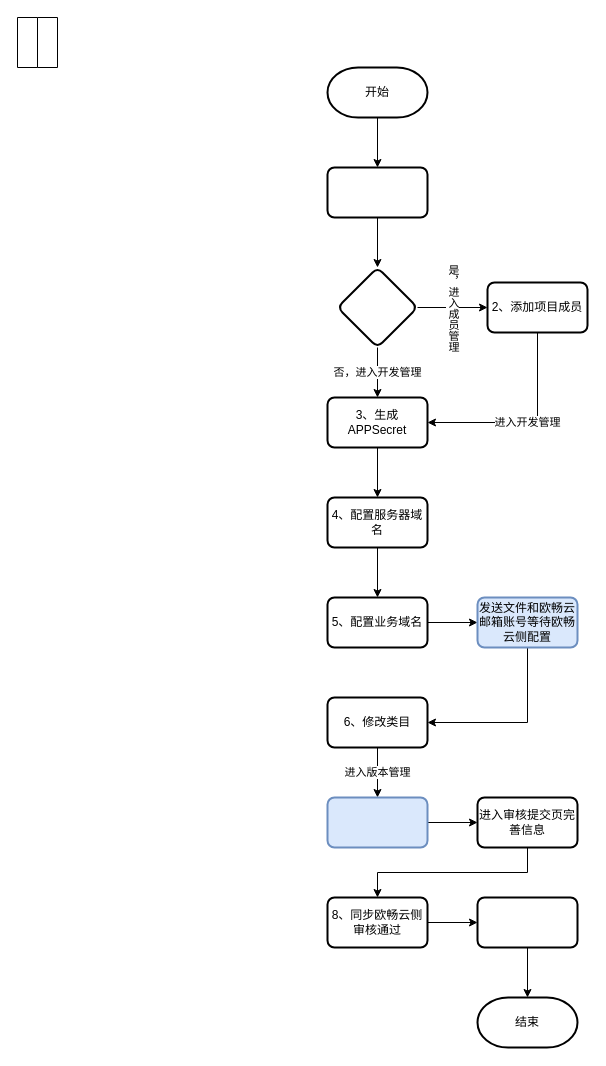
Image size: 606x1066. Some labels were removed from this diagram. The centre of each missing label's shape, as x and y in pixels:
"1、进入微信公众平台" belongs at (x=377, y=192).
"7、同步欧畅云侧进行开发版本的发布" belongs at (x=377, y=822).
"Pool" belongs at (x=37, y=42).
"是否添加成员" belongs at (x=377, y=307).
"欧畅云侧技术处理完毕后，正式发布" belongs at (x=527, y=922).
